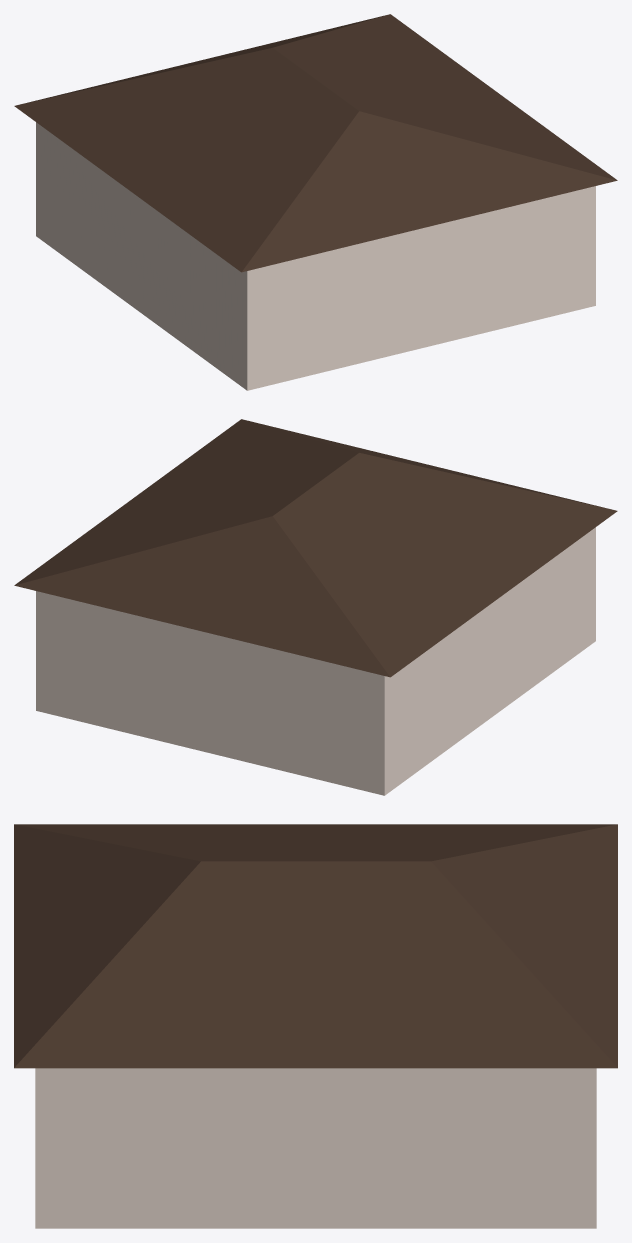
File: top-prebuilt_far.fbx
3 views of the same model, one above another, from view 1: azimuth 30°, elevation 25°; view 2: azimuth 150°, elevation 25°; view 3: azimuth 270°, elevation 25° (orthographic). The views are drawn at different scales.
Parts seen in each view (by area): view 1: a2000s2/0/top-prebuilt_far; view 2: a2000s2/0/top-prebuilt_far; view 3: a2000s2/0/top-prebuilt_far.
Boxes of the visible parts, x1=… form: a2000s2/0/top-prebuilt_far: x1=14, y1=14, x2=617, y2=390; a2000s2/0/top-prebuilt_far: x1=14, y1=419, x2=617, y2=795; a2000s2/0/top-prebuilt_far: x1=14, y1=824, x2=617, y2=1228.
Size of the model in its own units: 10.8 by 5.25 by 11.3.
